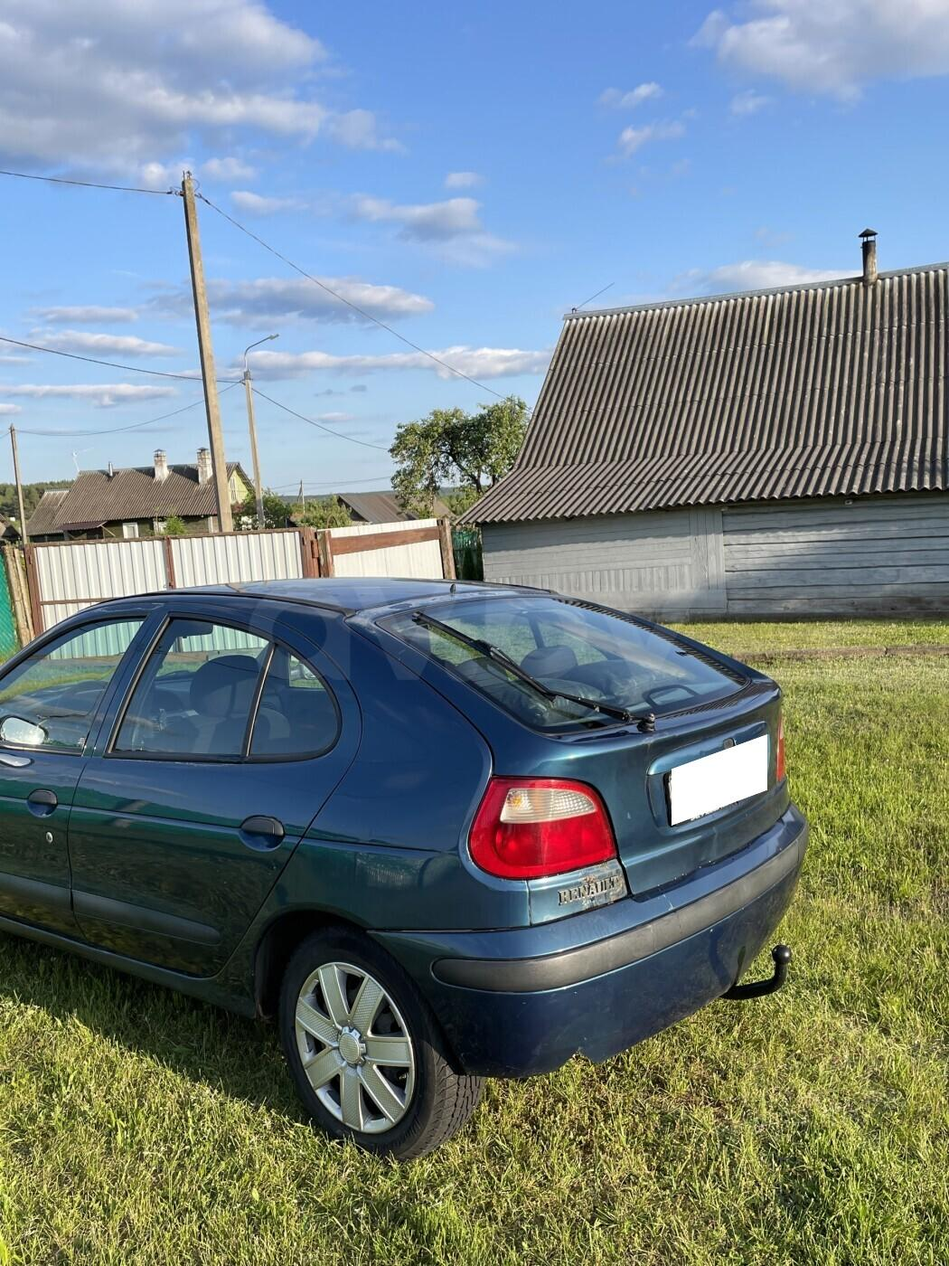Megane_1999-2003: (0, 579, 812, 1152)
